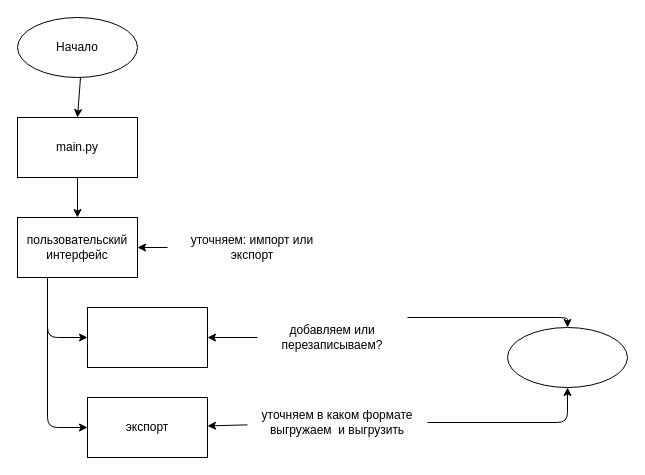
This 645x475 diagram has some shape labels left out. Each missing label, with the centre of its shape:
импорт: [147,337]
конец: [567,357]
